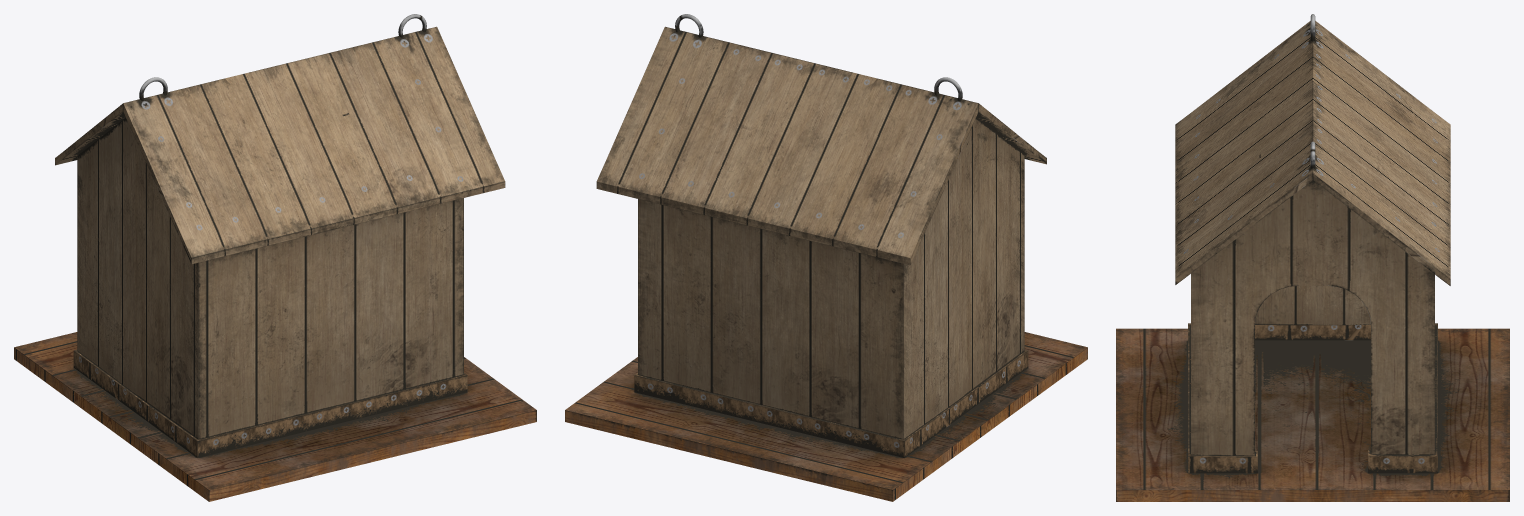
The model's file is doghouse_house_dog.glb.
3 renders of one model, left to right at view 1: azimuth 30°, elevation 25°; view 2: azimuth 150°, elevation 25°; view 3: azimuth 270°, elevation 25°, orthographic.
Parts seen in each view (by area): view 1: Object_3; view 2: Object_3; view 3: Object_3.
Part boxes in pixels (x1,y1,x2,y2): Object_3: (14,14,536,501); Object_3: (565,14,1087,501); Object_3: (1116,14,1509,501).
Bounding box in the file's own units: 313 × 312 × 322.
1 material, 1 textured.
